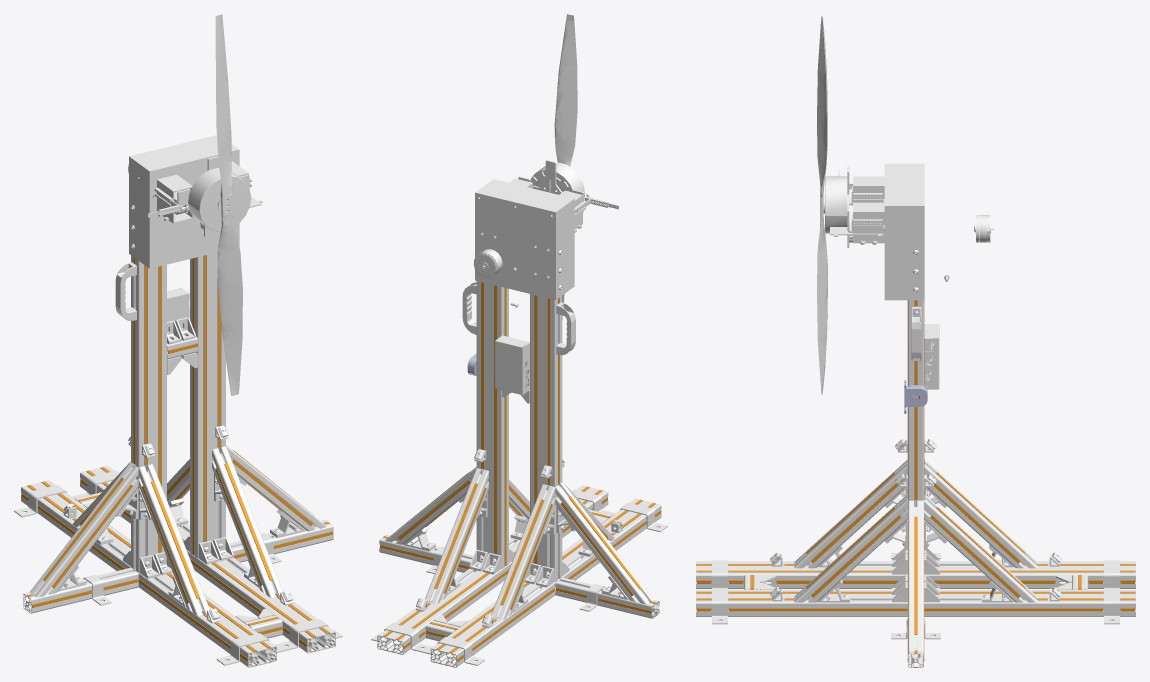
File: rts-pro-20.glb
3 renders of one model, left to right at view 1: azimuth 30°, elevation 25°; view 2: azimuth 150°, elevation 25°; view 3: azimuth 270°, elevation 25°, orthographic. The views are drawn at different scales.
Visible parts, largest first — view 1: p2, p1, p0, p792, p3, p898, p794, p812, p811, p813, p918, p895 (+19 smaller); view 2: p793, p1, p2, p0, p3, p897, p792, p812, p918, p814, p815, p747 (+19 smaller); view 3: p3, p0, p792, p916, p813, p815, p811, p814, p2, p819, p915, p794 (+12 smaller).
Part boxes in pixels (bbox=[...]): p2: bbox=[190, 252, 225, 558]; p1: bbox=[131, 255, 166, 572]; p0: bbox=[21, 480, 276, 667]; p792: bbox=[129, 135, 239, 228]; p3: bbox=[80, 465, 335, 653]; p898: bbox=[217, 213, 242, 395]; p794: bbox=[129, 214, 239, 268]; p812: bbox=[29, 462, 138, 597]; p811: bbox=[138, 464, 209, 615]; p813: bbox=[212, 446, 283, 597]; p918: bbox=[192, 255, 220, 555]; p895: bbox=[188, 168, 251, 231]; p793: bbox=[475, 192, 556, 299]; p1: bbox=[530, 245, 562, 581]; p2: bbox=[476, 232, 508, 569]; p0: bbox=[430, 498, 661, 667]; p3: bbox=[377, 485, 608, 654]; p897: bbox=[554, 14, 577, 166]; p792: bbox=[475, 179, 574, 263]; p812: bbox=[555, 482, 653, 604]; p918: bbox=[481, 282, 506, 566]; p814: bbox=[491, 484, 555, 620]; p815: bbox=[425, 468, 488, 604]; p747: bbox=[495, 335, 529, 394]; p3: bbox=[696, 589, 1135, 616]; p0: bbox=[696, 561, 1135, 588]; p792: bbox=[884, 163, 923, 261]; p916: bbox=[697, 591, 1134, 611]; p813: bbox=[794, 494, 907, 602]; p815: bbox=[924, 494, 1037, 602]; p811: bbox=[794, 459, 907, 568]; p814: bbox=[924, 459, 1037, 568]; p2: bbox=[908, 300, 923, 506]; p819: bbox=[908, 500, 923, 650]; p915: bbox=[697, 564, 1134, 583]; p794: bbox=[884, 261, 923, 300].
Size of the model in its own units: 845 by 1594 by 1100.
